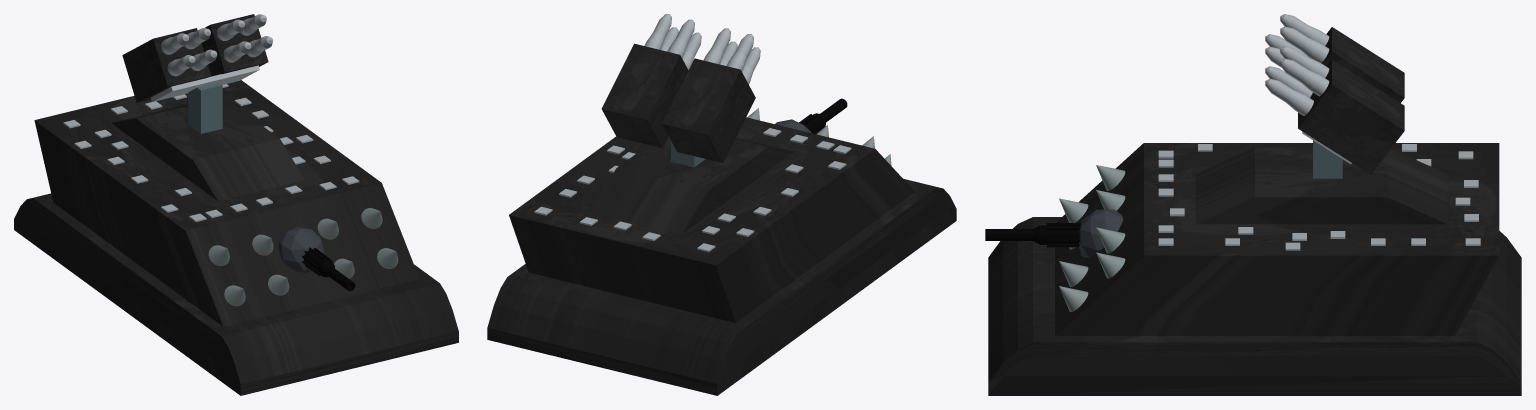
Rendered from enemy2.glb.
The picture shows the model from 3 angles, left to right: view 1: azimuth 30°, elevation 25°; view 2: azimuth 150°, elevation 25°; view 3: azimuth 270°, elevation 25°; orthographic projection. The views are drawn at different scales.
Parts seen in each view (by area): view 1: Cube, Cube.004, Cube.007, Cube.001, Icosphere, Cube.002, Cylinder.008, Cylinder.004, Cylinder.002, Cylinder.003, Cylinder.007; view 2: Cube, Cube.004, Cube.007, Cylinder.008, Cylinder.003, Cylinder.004, Cylinder.005, Cylinder; view 3: Cube, Cube.007, Cube.004, Cylinder.008, Icosphere, Cube.001, Cylinder, Cylinder.001, Cylinder.005, Cylinder.003, Cylinder.004, Cylinder.002.
Part boxes in pixels (left/top/right/bottom): Cube: left=14, top=80, right=458, bottom=395; Cube.004: left=122, top=28, right=211, bottom=102; Cube.007: left=201, top=14, right=268, bottom=76; Cube.001: left=188, top=82, right=222, bottom=133; Icosphere: left=278, top=227, right=324, bottom=272; Cube.002: left=151, top=65, right=259, bottom=101; Cylinder.008: left=302, top=247, right=355, bottom=291; Cylinder.004: left=161, top=33, right=188, bottom=54; Cylinder.002: left=223, top=41, right=251, bottom=62; Cylinder.003: left=217, top=19, right=244, bottom=40; Cylinder.007: left=167, top=55, right=195, bottom=76; Cube: left=487, top=117, right=956, bottom=395; Cube.004: left=662, top=58, right=755, bottom=162; Cube.007: left=601, top=43, right=688, bottom=148; Cylinder.008: left=799, top=98, right=847, bottom=134; Cylinder.003: left=667, top=19, right=694, bottom=58; Cylinder.004: left=726, top=34, right=753, bottom=71; Cylinder.005: left=703, top=28, right=730, bottom=64; Cylinder: left=644, top=14, right=671, bottom=49; Cube: left=988, top=143, right=1521, bottom=395; Cube.007: left=1298, top=60, right=1404, bottom=174; Cube.004: left=1321, top=27, right=1404, bottom=102; Cylinder.008: left=985, top=223, right=1081, bottom=247; Icosphere: left=1079, top=209, right=1123, bottom=257; Cube.001: left=1313, top=140, right=1342, bottom=178; Cylinder: left=1280, top=58, right=1329, bottom=96; Cylinder.001: left=1265, top=79, right=1313, bottom=115; Cylinder.005: left=1280, top=26, right=1329, bottom=62; Cylinder.003: left=1280, top=46, right=1329, bottom=77; Cylinder.004: left=1280, top=14, right=1329, bottom=45; Cylinder.002: left=1265, top=66, right=1312, bottom=97.
Size of the model in its own units: 10 by 11.05 by 18.1.
Materials: 38 (1 with a texture image).
